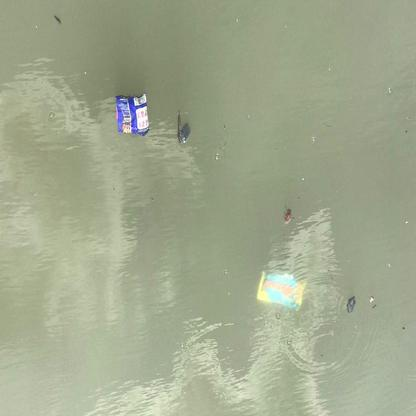plastic bag: (256, 268, 304, 313), (114, 93, 152, 135)
